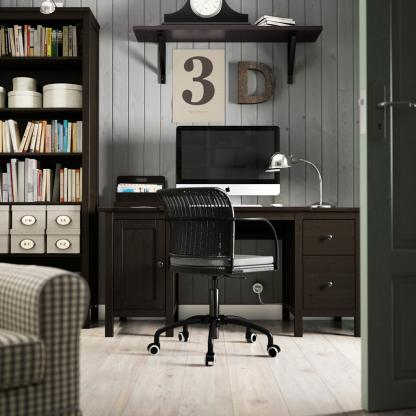Chair: (145, 183, 283, 369)
Table: (100, 204, 361, 338)
